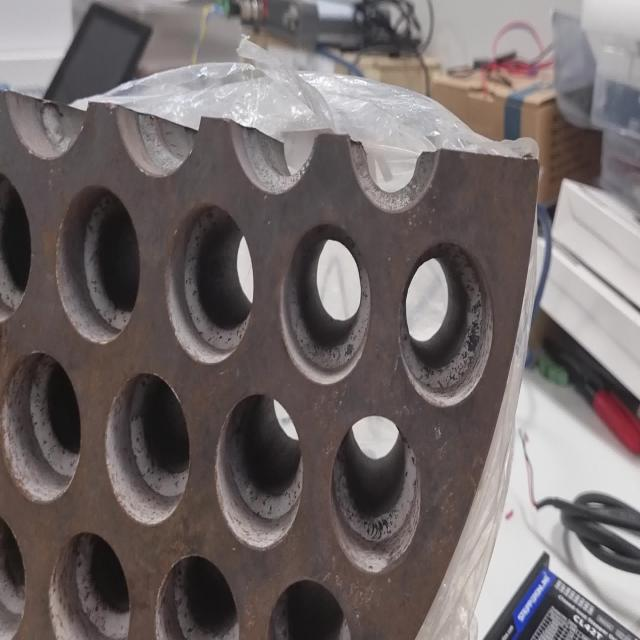Hole: (399, 238, 494, 408), (279, 222, 371, 386), (330, 416, 421, 574), (214, 392, 304, 551), (165, 203, 253, 364), (55, 185, 140, 345), (104, 371, 190, 526), (1, 352, 82, 504), (48, 530, 131, 640), (154, 554, 239, 640)
